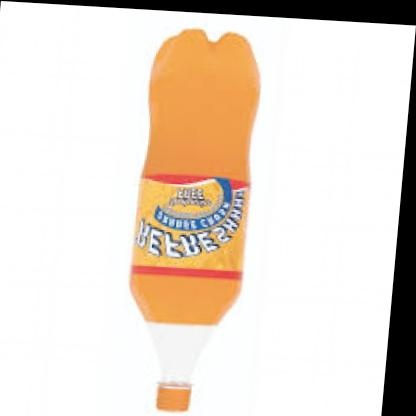trash: (130, 29, 258, 411)
